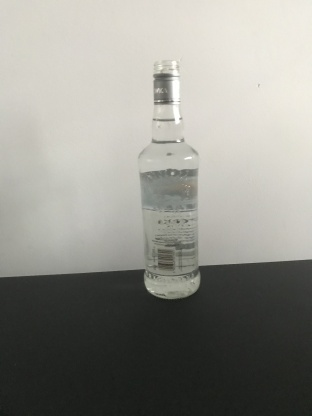nakretka: (151, 57, 182, 107)
